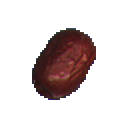gd: (27, 14, 106, 111)
